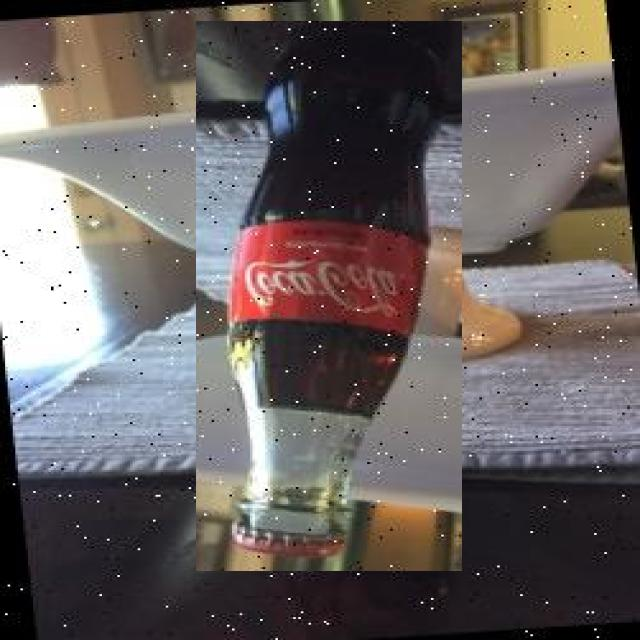coca-cola: (196, 21, 462, 571)
